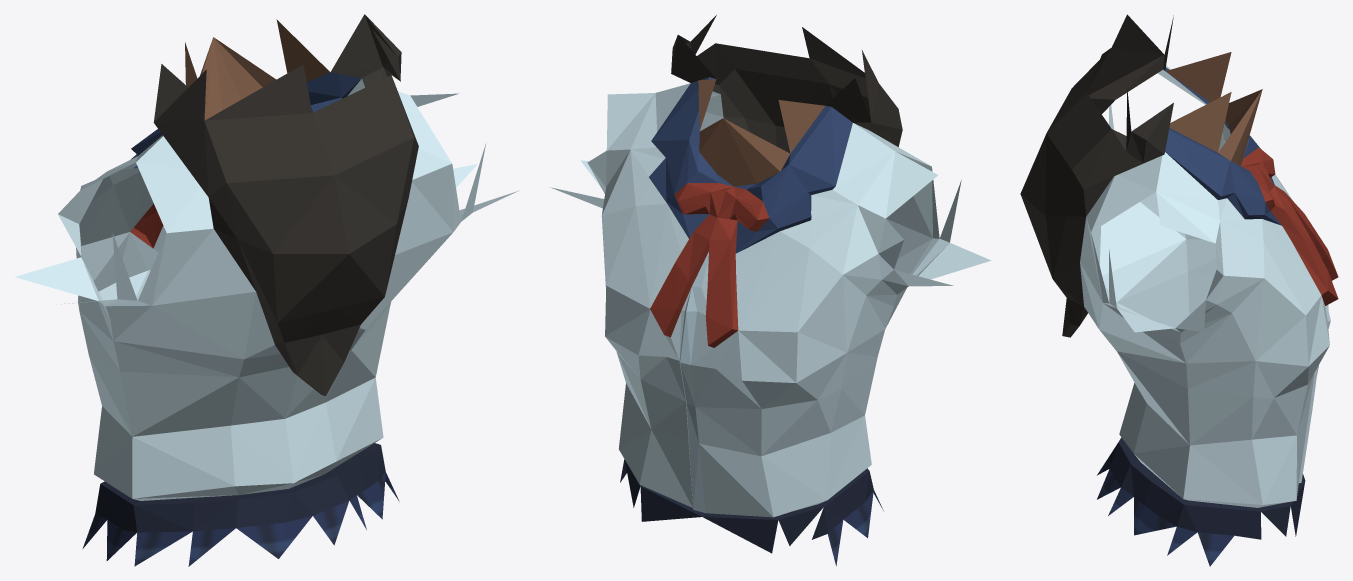
File: Torso.obj
3 renders of one model, left to right at view 1: azimuth 30°, elevation 25°; view 2: azimuth 150°, elevation 25°; view 3: azimuth 270°, elevation 25°, orthographic. The views are drawn at different scales.
Bounding box in the file's own units: 0.5549 × 0.5908 × 0.3639.
Materials: 1 (1 with a texture image).
